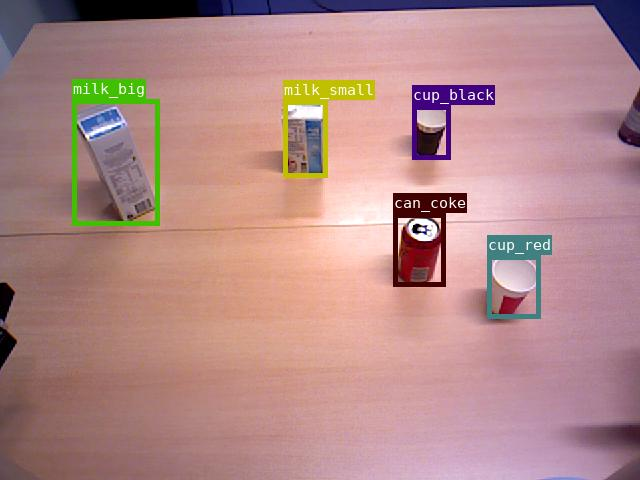can_coke: (393, 213, 445, 286)
cup_black: (412, 105, 450, 159)
cup_red: (487, 255, 540, 318)
milk_big: (72, 99, 159, 225)
milk_small: (283, 100, 327, 177)
